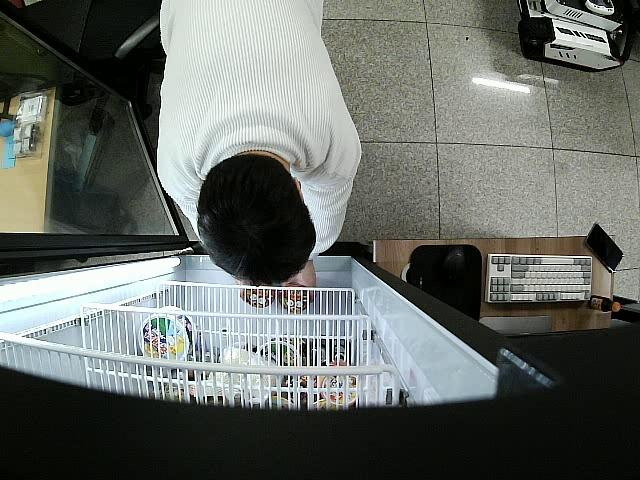06_nuguri_S: (241, 284, 275, 309), (279, 284, 310, 311)
